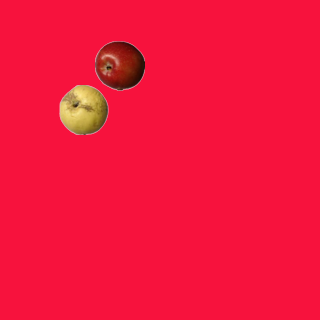Apple Braeburn: (94, 40, 144, 90)
Apple Golden 1: (58, 84, 108, 134)
